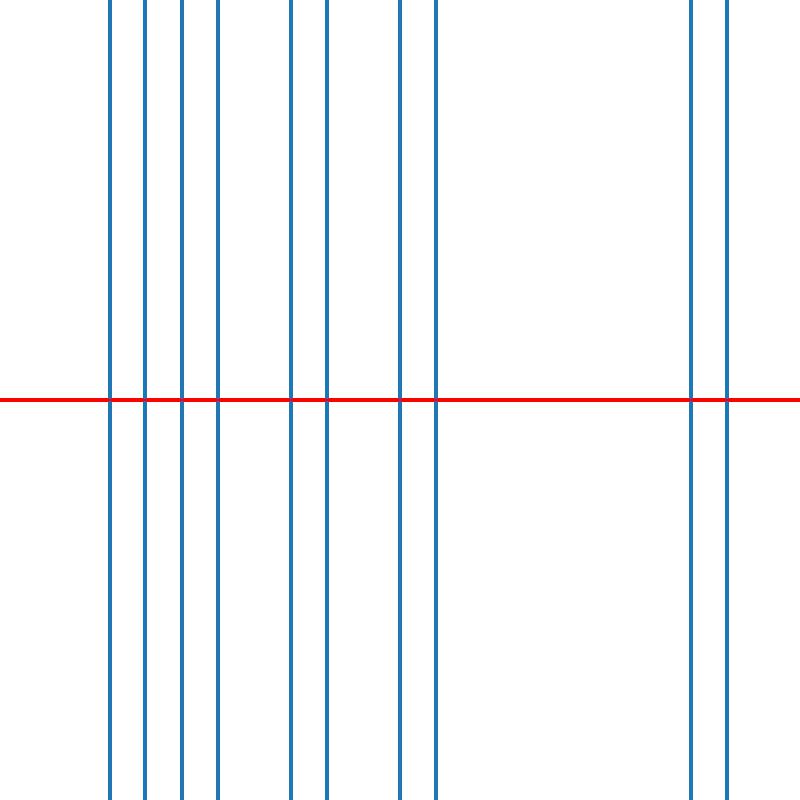root: (432, 396, 440, 404), (141, 396, 149, 404), (723, 396, 730, 404), (178, 396, 185, 404), (214, 396, 221, 404), (687, 396, 694, 404), (396, 396, 403, 404), (323, 396, 330, 404), (105, 396, 112, 404), (287, 396, 294, 404)
